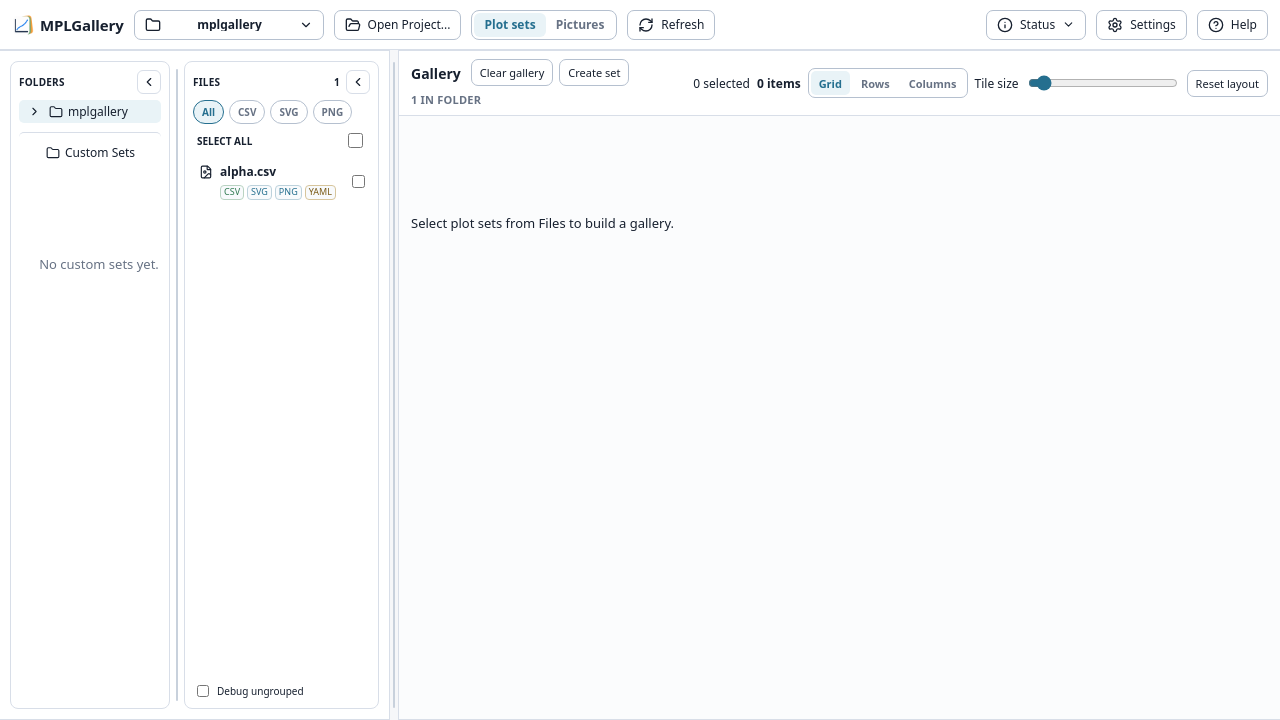
Test: App explorer › removes remembered custom sets
Click the checkbox named "Show alpha.csv".
click(358, 181)  # box [352,175,365,188]
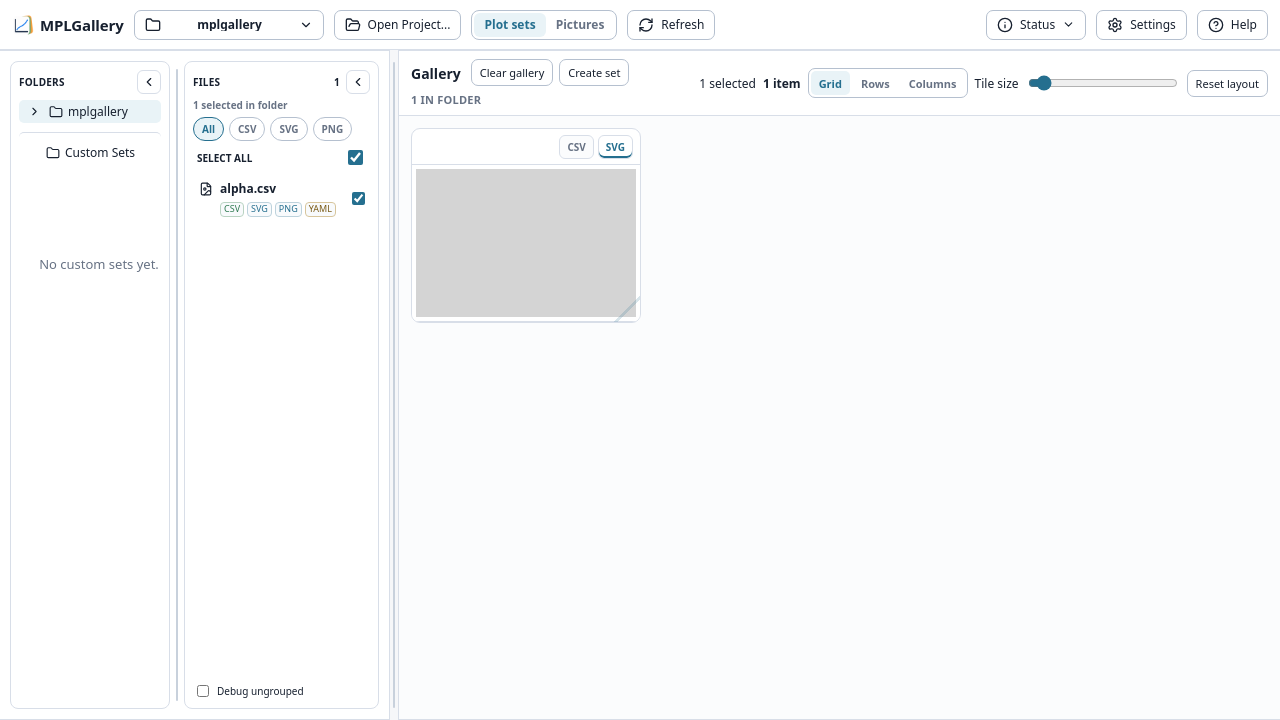
Click the button "Create set".
click(594, 72)  # box [559,59,629,86]
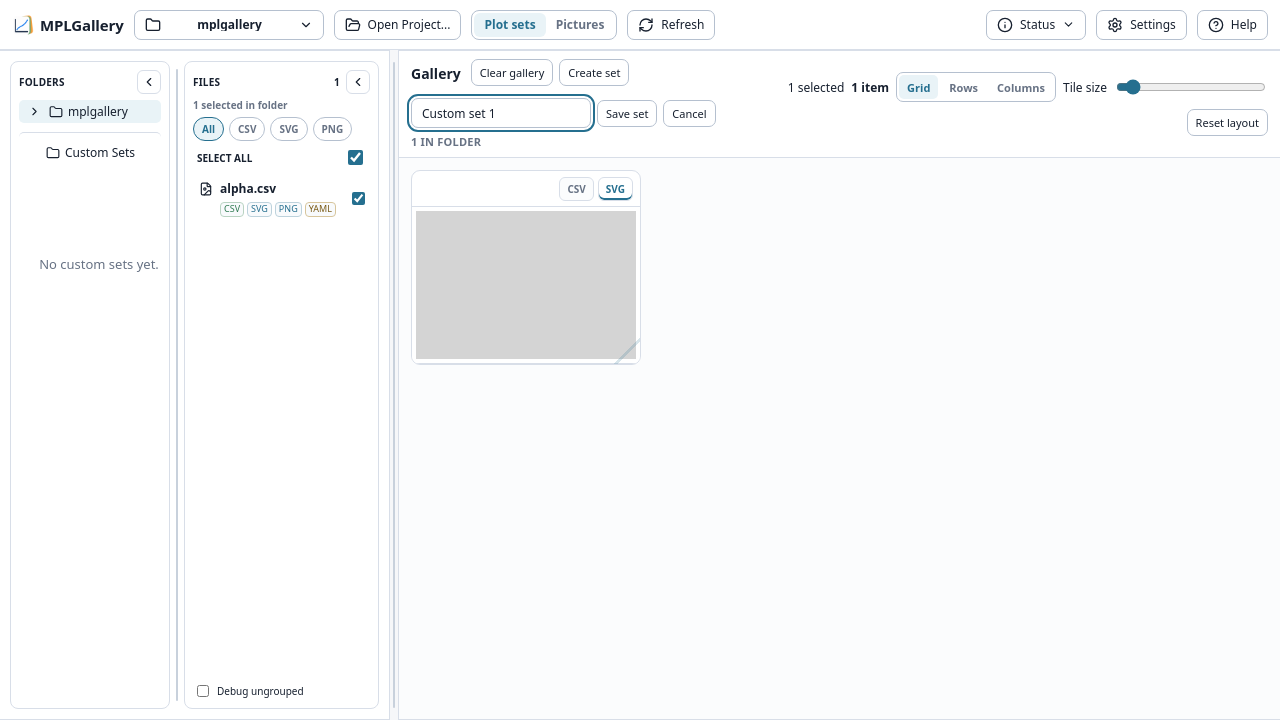
Replace the text in the field named "Custom set name" with "Throwaway set" at (501, 113), box [411,98,591,128]
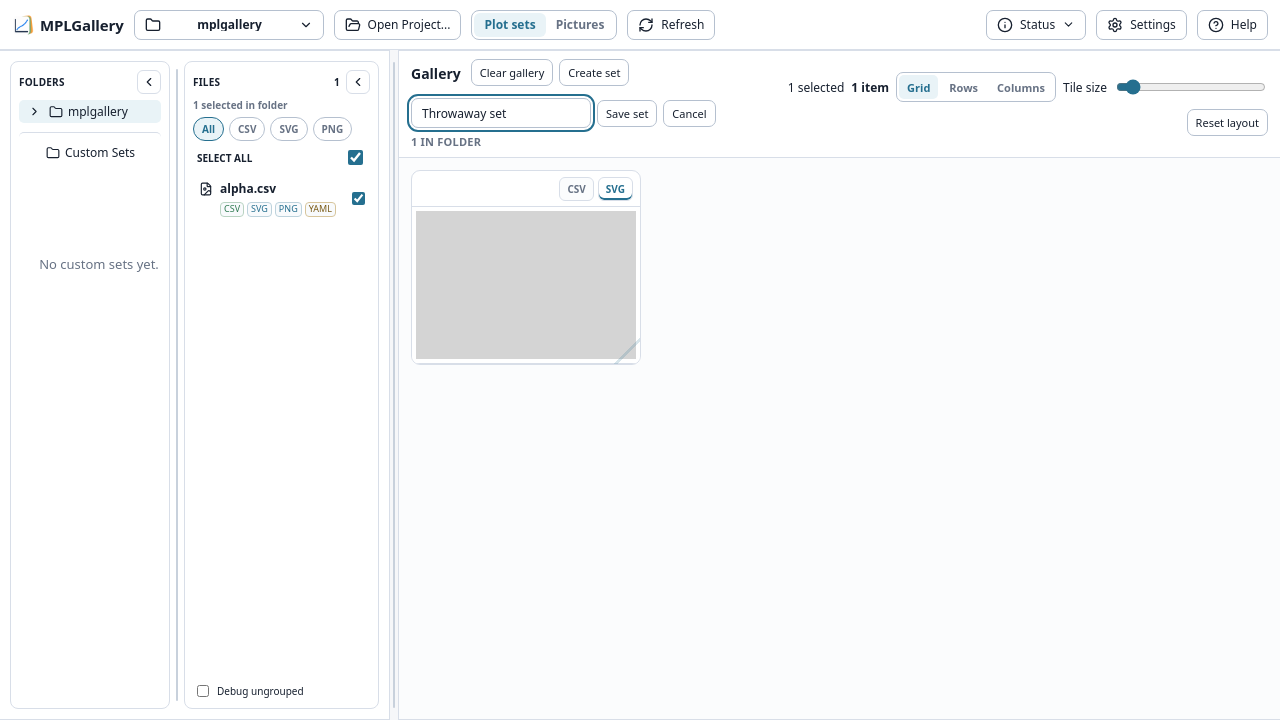
Click the button "Save set".
click(627, 113)  # box [597,100,657,126]
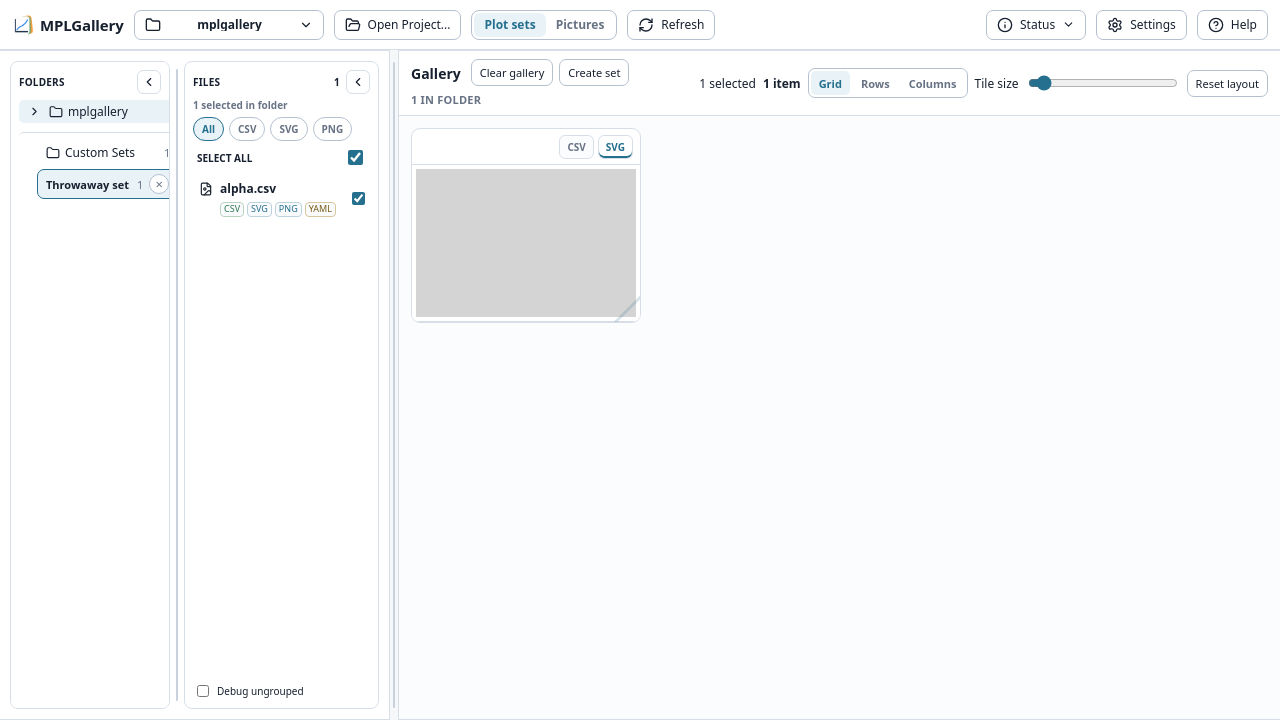
expect the button "Throwaway set 1 ×" is shown: met, box [37,169,170,199]
Click the button named "Remove custom set Throwaway set".
click(159, 184)  # box [149,174,169,194]
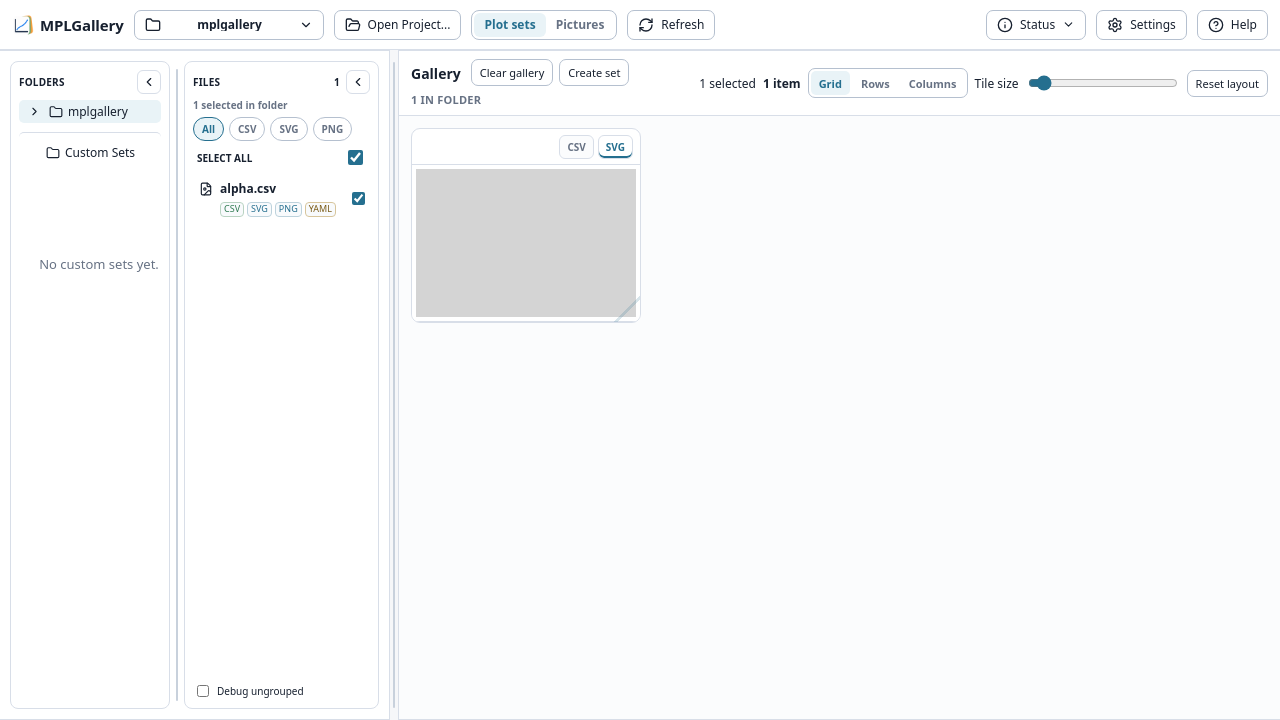
expect the button "Throwaway set" is gone: met
expect the text "No custom sets yet." is shown: met, box [39,255,159,273]
